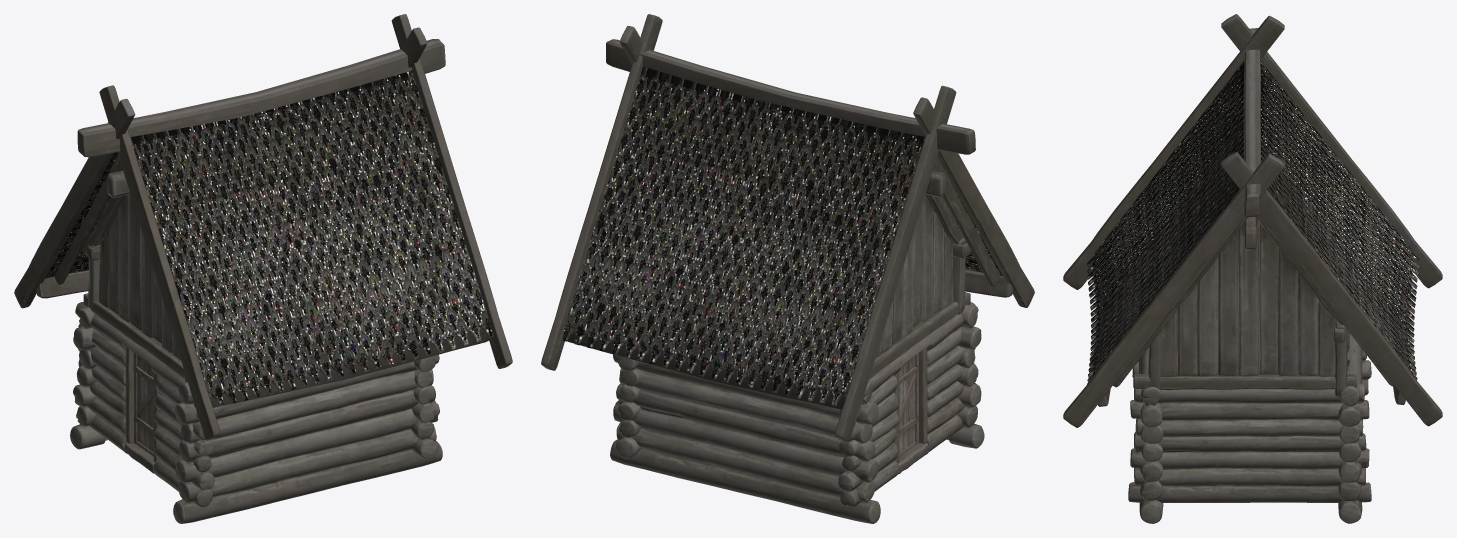
The model's file is build_small_house_tall_roof_01_low.glb.
3 views of the same model, side by side, from view 1: azimuth 30°, elevation 25°; view 2: azimuth 150°, elevation 25°; view 3: azimuth 270°, elevation 25° (orthographic). The views are drawn at different scales.
Parts seen in each view (by area): view 1: build_small_house_tall_roof_01; view 2: build_small_house_tall_roof_01; view 3: build_small_house_tall_roof_01.
Boxes of the visible parts, x1,y1,x2,y2 form: build_small_house_tall_roof_01: (14,14,512,523); build_small_house_tall_roof_01: (541,14,1034,523); build_small_house_tall_roof_01: (1063,14,1442,523).
Bounding box in the file's own units: 11.02 × 11.49 × 10.32.
Materials: 2 (2 with a texture image).
